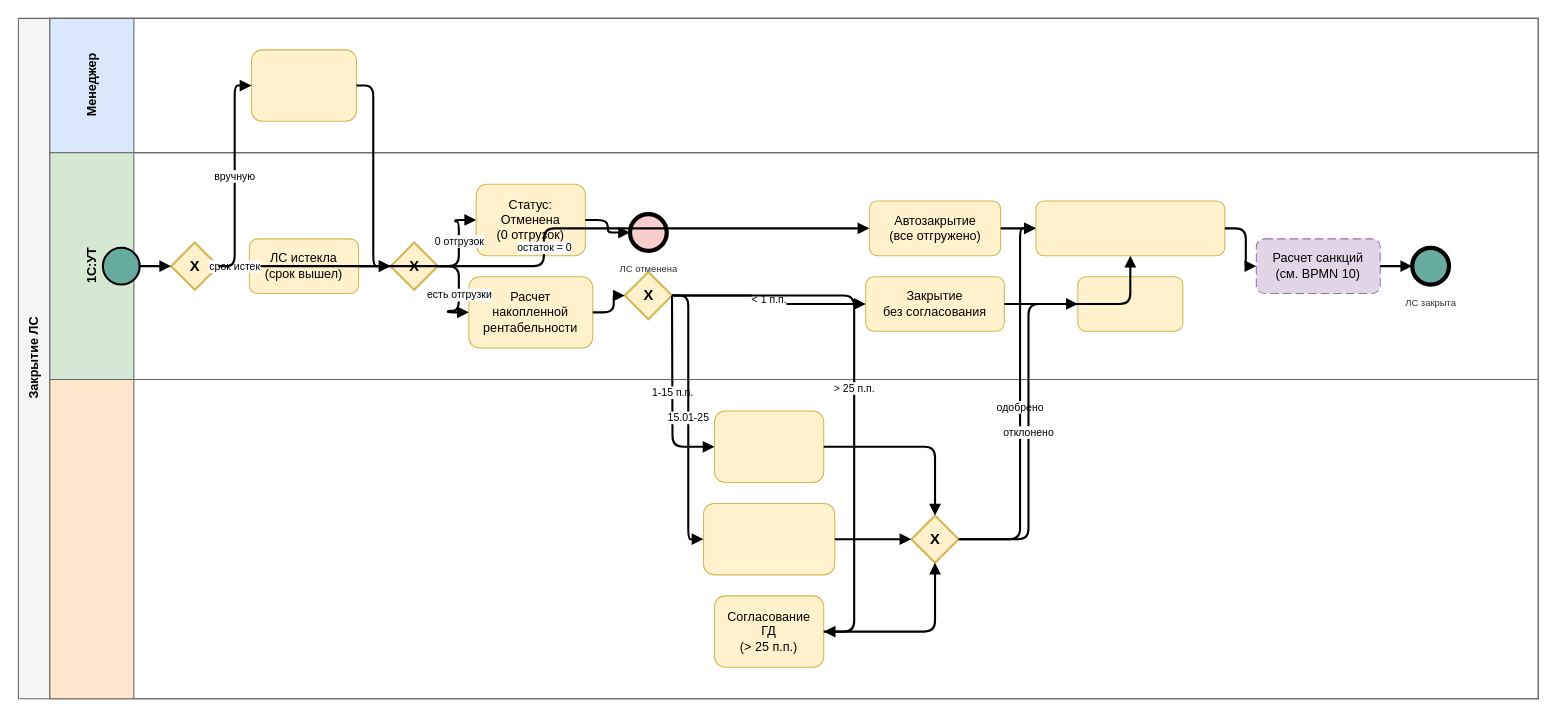
Image size: 1557x717. Some labels were removed from this diagram. The box of each missing label's shape, as (x1, y1, x2, y2) in pixels:
Инициация закрытия менеджером: (250, 49, 356, 121)
ЛС остается активной: (1077, 276, 1183, 331)
Согласование ДП (15.01-25 п.п.): (702, 502, 835, 575)
Согласование РБЮ (1-15 п.п.): (713, 410, 824, 482)
Согласующий (РБЮ / ДП / ГД): (49, 379, 1538, 699)
Статус: Закрыта (товар в своб. остаток): (1035, 200, 1225, 256)
